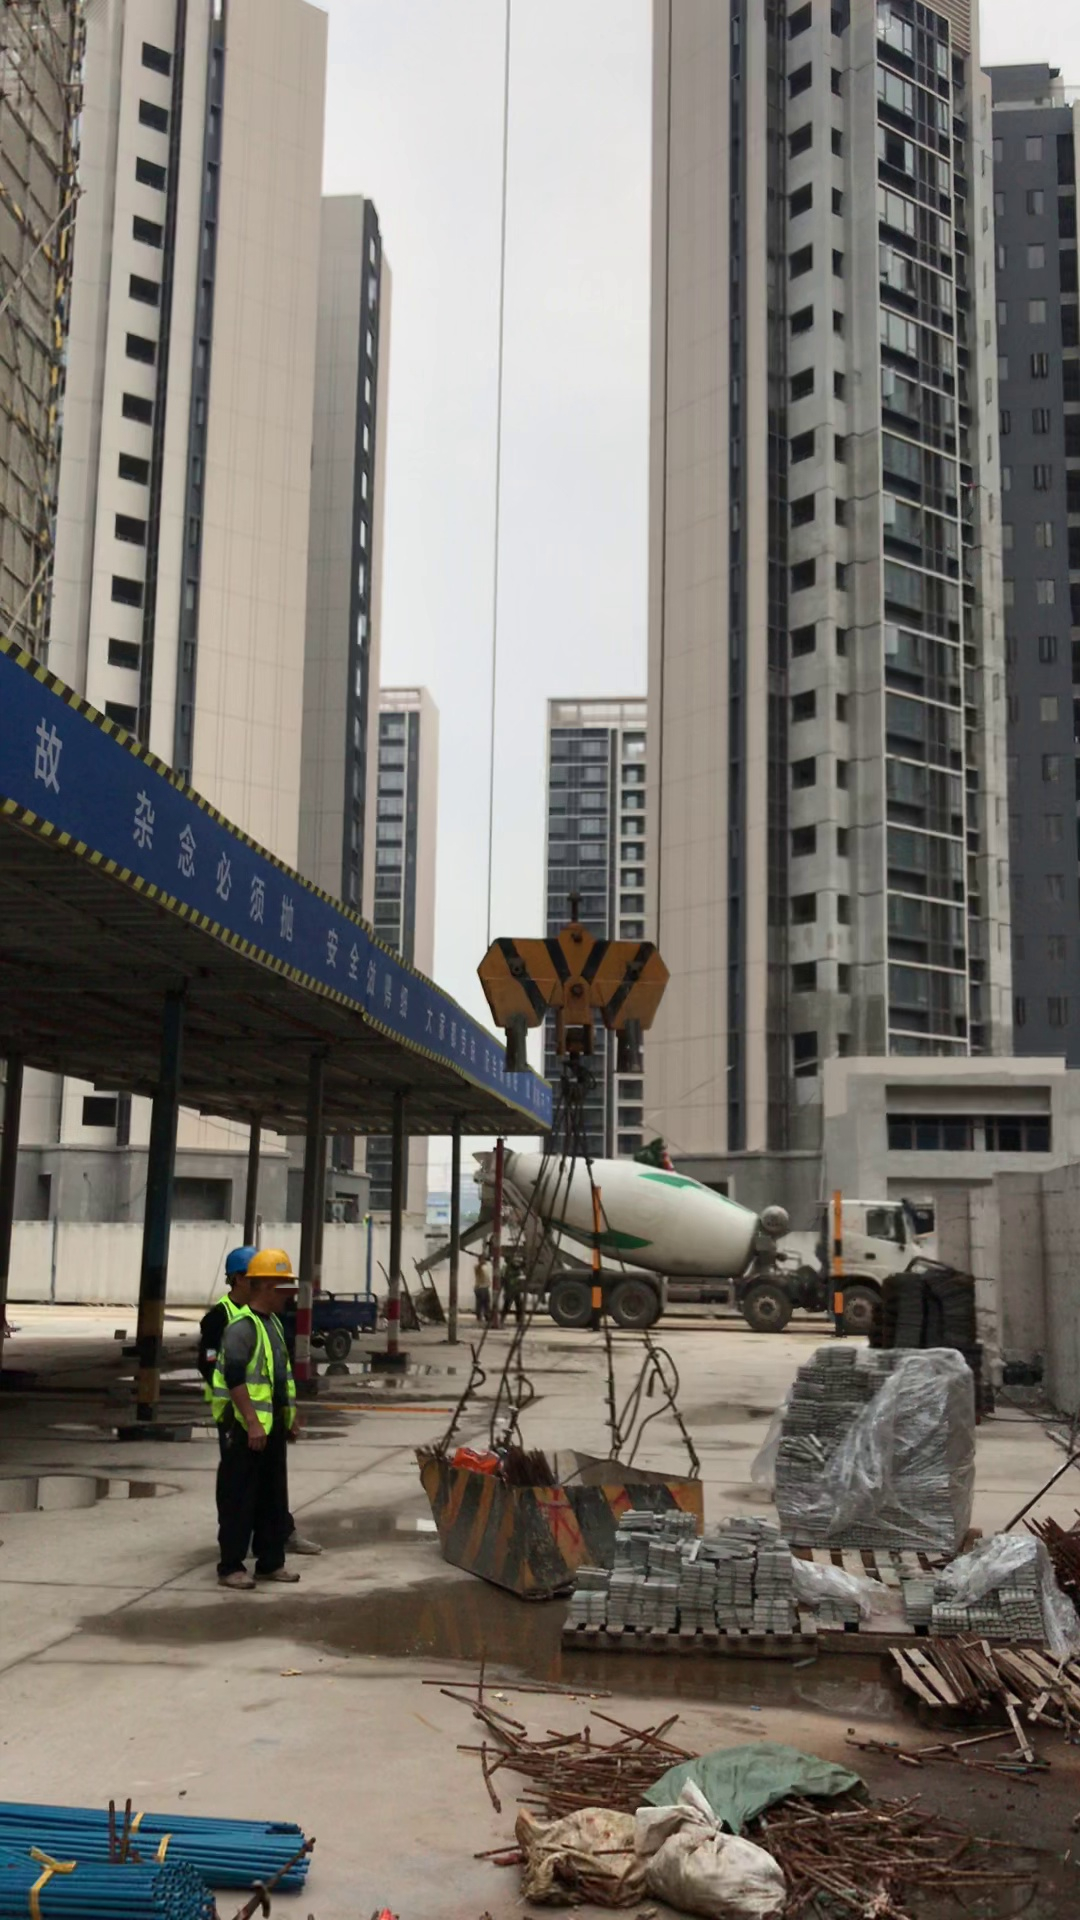handcart: (377, 1256, 457, 1327)
helmet: (235, 1245, 306, 1294), (216, 1233, 256, 1279)
hook: (480, 884, 664, 1070)
person: (217, 1258, 307, 1572), (191, 1226, 280, 1395)
slogan: (32, 669, 473, 1081)
vest: (228, 1319, 300, 1441)
